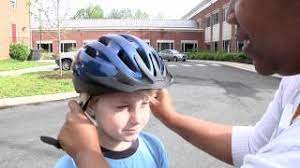helmets: (69, 33, 175, 97)
